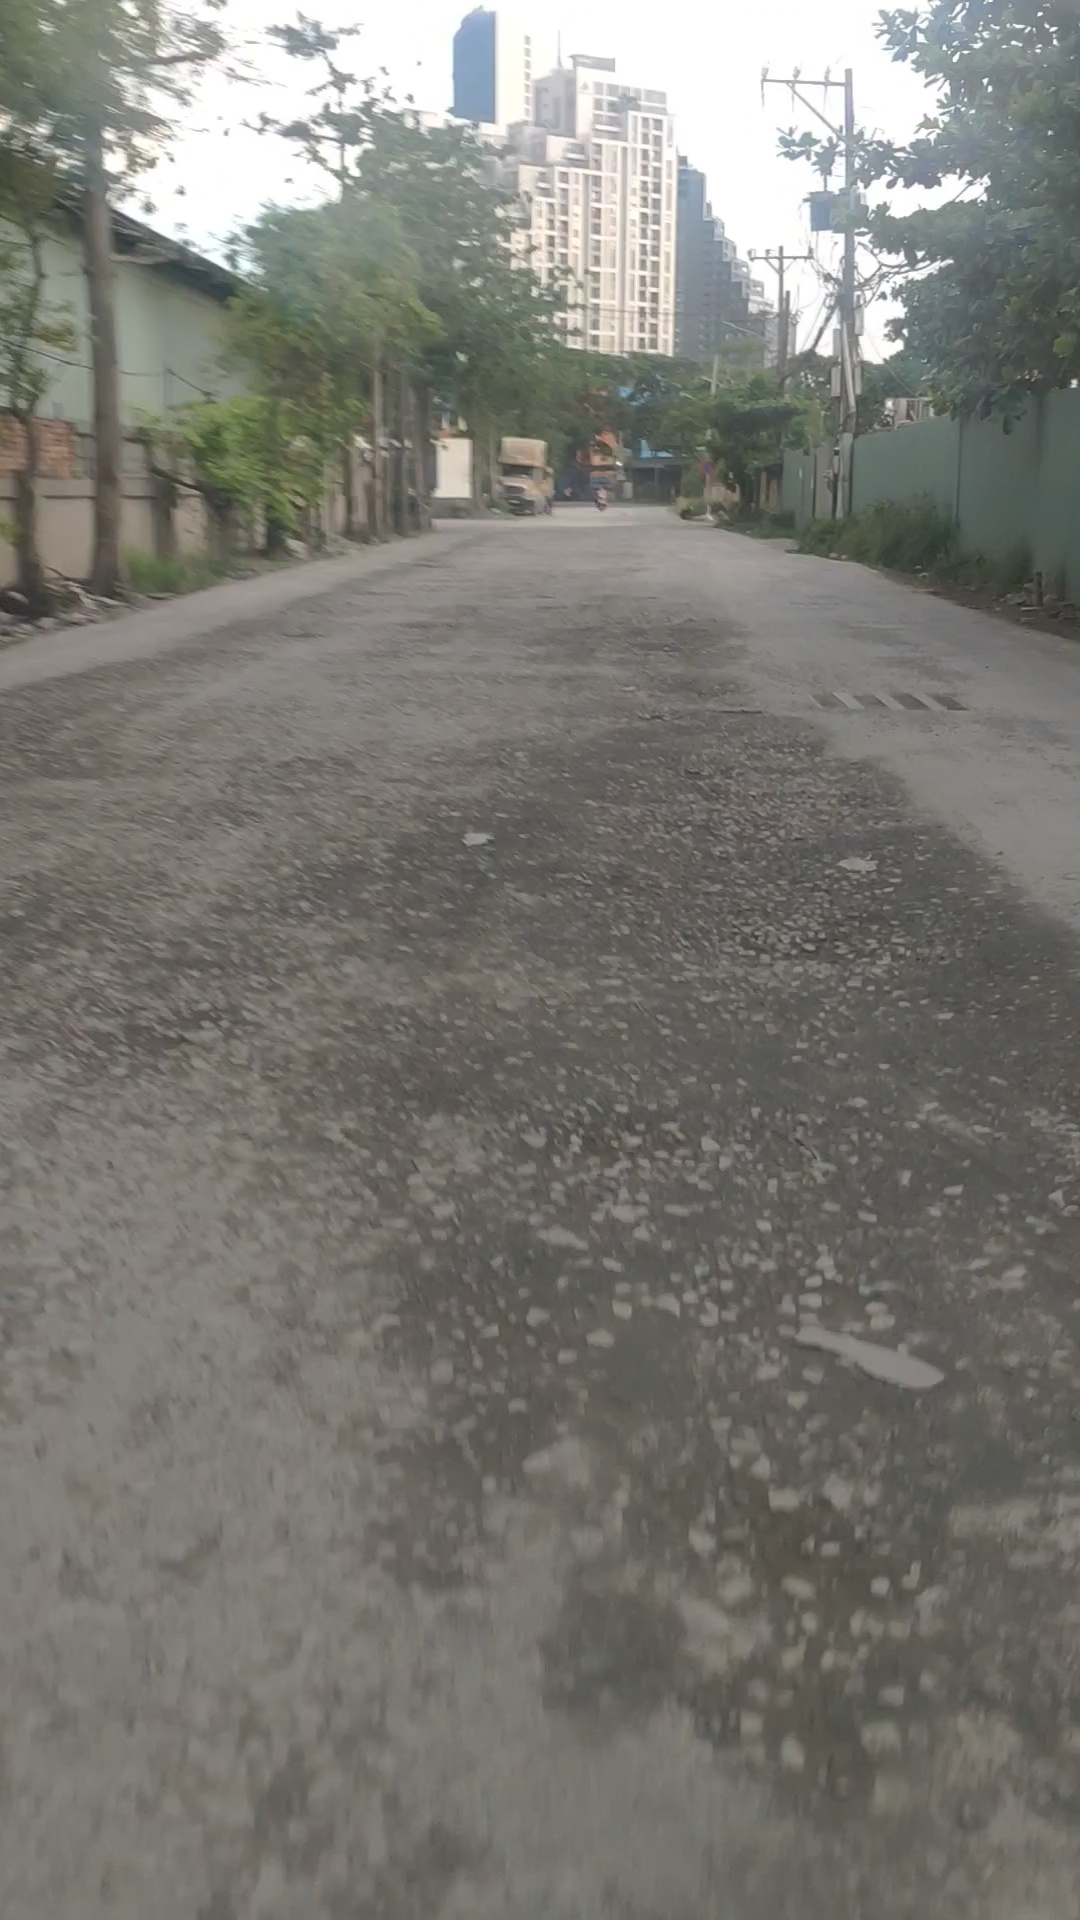hole: (475, 1073, 800, 1221), (622, 719, 942, 848), (653, 884, 934, 990)
